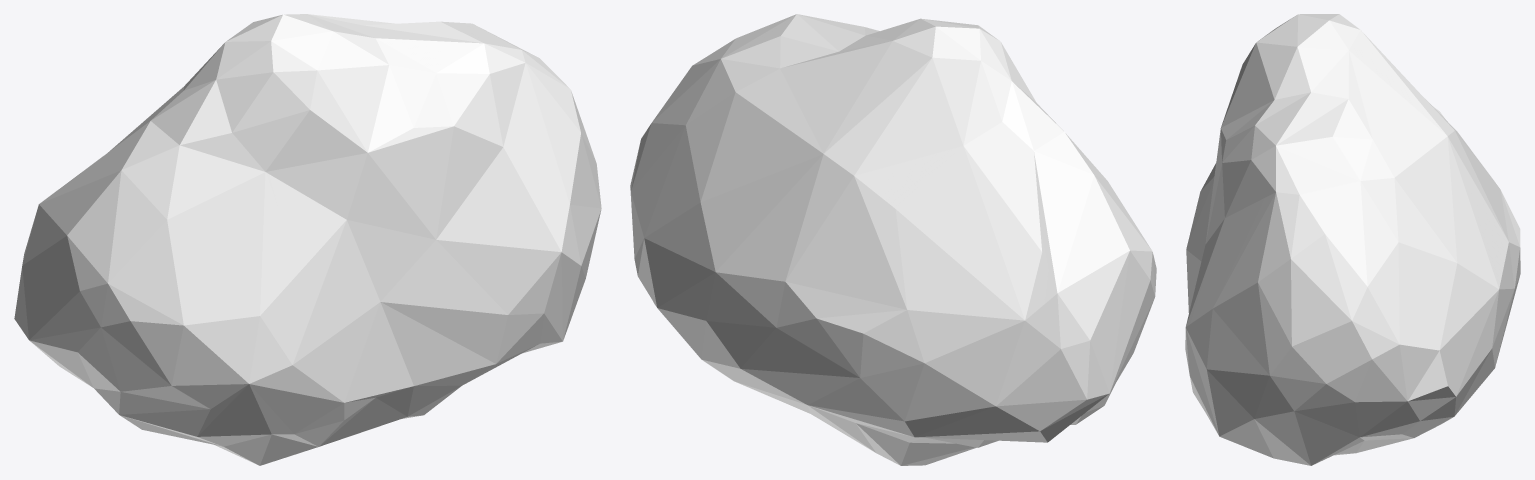
Rendered from Small_Cloud_01.glb.
3 views of the same model, side by side, from view 1: azimuth 30°, elevation 25°; view 2: azimuth 150°, elevation 25°; view 3: azimuth 270°, elevation 25° (orthographic). The views are drawn at different scales.
Visible parts, largest first — view 1: Cloud_01; view 2: Cloud_01; view 3: Cloud_01.
Boxes of the visible parts, x1,y1,x2,y2 form: Cloud_01: (14, 14, 601, 465); Cloud_01: (630, 14, 1156, 465); Cloud_01: (1185, 14, 1520, 465).
Size of the model in its own units: 3.26 by 2.67 by 1.97.
Materials: 1 (1 with a texture image).
